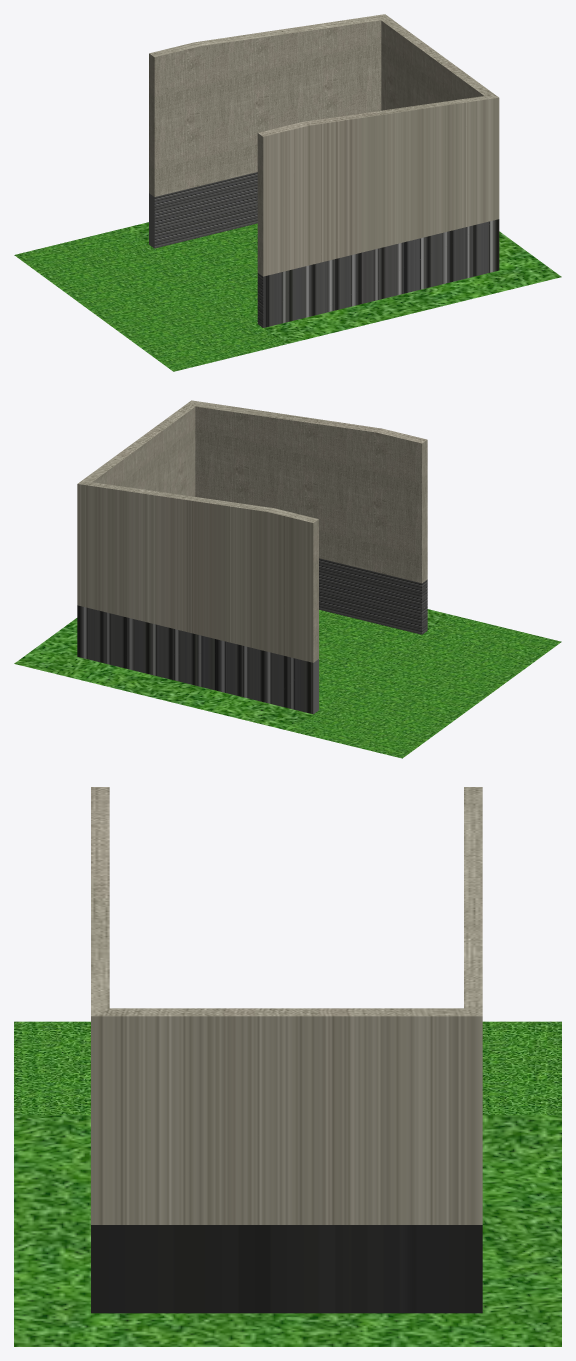
Rendered from veasak  hose.fbx.
3 renders of one model, top to bottom at view 1: azimuth 30°, elevation 25°; view 2: azimuth 150°, elevation 25°; view 3: azimuth 270°, elevation 25°, orthographic. The views are drawn at different scales.
Parts seen in each view (by area): view 1: House; view 2: House; view 3: House.
Part boxes in pixels (box(x1,y1,x2,y2)): House: box(14, 14, 561, 371); House: box(14, 400, 561, 758); House: box(14, 787, 561, 1346).
Size of the model in its own units: 3526 by 1671 by 2509.
Materials: 4 (4 with a texture image).
